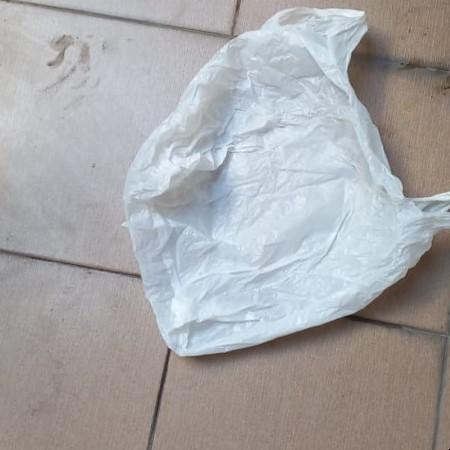Plastik: (120, 7, 450, 358)
